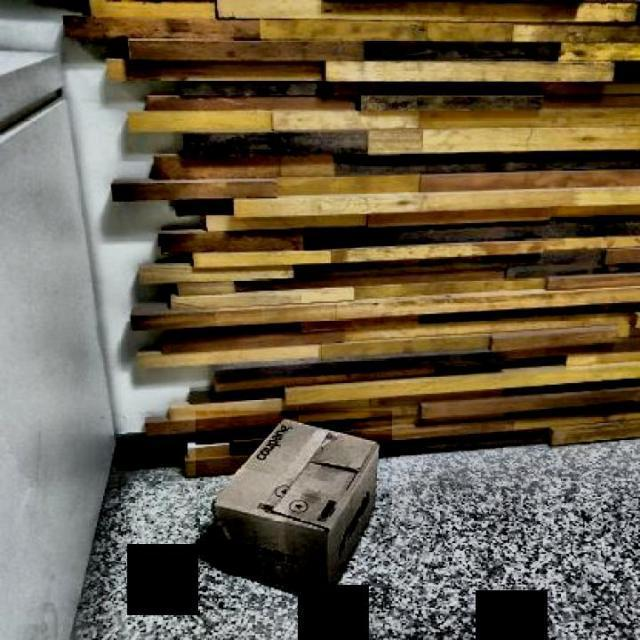box: (196, 410, 392, 610)
